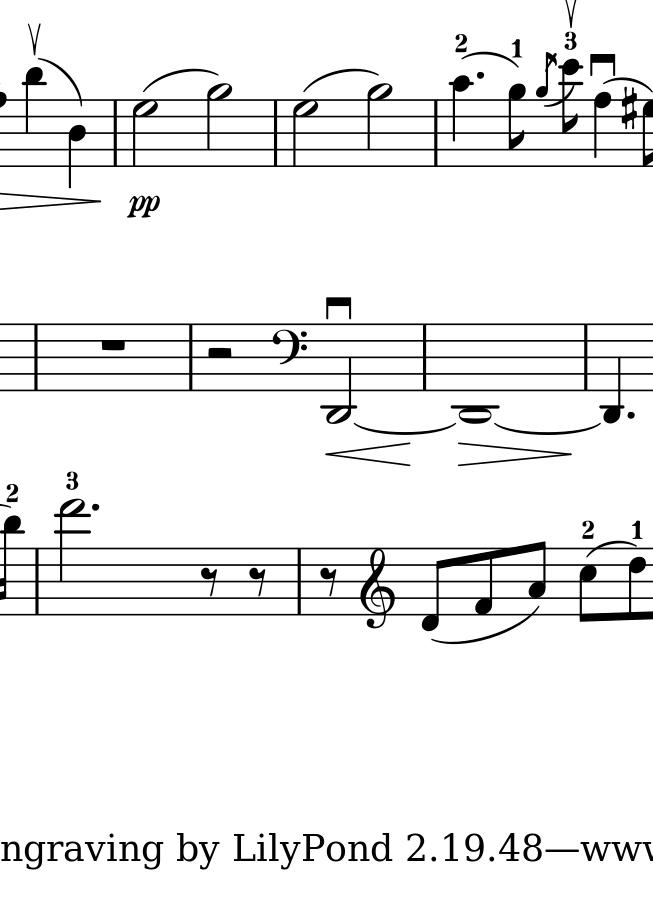1: (630, 519, 644, 541), (511, 37, 522, 58)
1_-3: (453, 320, 498, 425)
2: (580, 518, 596, 540), (453, 32, 469, 52)
2_-3: (322, 323, 355, 423)
2_13: (55, 498, 86, 620)
2_7: (129, 98, 160, 171), (290, 98, 319, 169)
2_9: (202, 82, 234, 170), (363, 81, 395, 169)
3: (562, 30, 579, 51), (64, 470, 79, 491)
4_-3: (598, 321, 624, 425)
4_10: (449, 74, 474, 169)
4_11: (22, 65, 47, 169)
4_4: (66, 98, 88, 187)
4_8: (592, 91, 612, 169)
8_-1: (419, 546, 449, 634)
8_1: (472, 546, 495, 617)
8_12: (558, 58, 582, 169)
8_3: (525, 539, 547, 619)
8_5: (576, 547, 598, 626)
8_6: (626, 547, 648, 623)
8_9: (505, 83, 528, 169)
Acciaccature: (534, 51, 559, 168)
Crescendo_hairpin: (327, 441, 413, 468)
Diminuendo_hairpin: (456, 441, 574, 467), (1, 192, 102, 211)
Down_bow: (324, 294, 354, 320)
Fclef: (270, 322, 308, 393)
Gclef: (359, 546, 395, 630)
Rests1: (96, 336, 130, 356)
Rests2: (203, 344, 237, 365)
Rests8: (317, 565, 339, 599), (247, 565, 268, 598), (199, 566, 220, 598)
Sharp: (620, 84, 638, 134)
Single_barline: (291, 547, 308, 615), (182, 324, 199, 391), (107, 99, 123, 166), (268, 99, 284, 166), (27, 324, 43, 390), (578, 325, 593, 391), (429, 100, 443, 166), (417, 325, 431, 390), (30, 548, 44, 613)
Slur: (433, 604, 539, 645), (38, 56, 86, 108), (302, 67, 382, 93), (142, 67, 221, 91), (354, 422, 456, 437), (495, 422, 601, 436), (602, 76, 653, 95), (463, 51, 518, 68), (587, 540, 635, 555)
Tremolo_bar: (27, 21, 43, 55), (563, 1, 580, 26)
dot: (474, 70, 486, 81), (626, 409, 637, 421), (90, 501, 101, 513)
pp: (125, 190, 161, 220)
